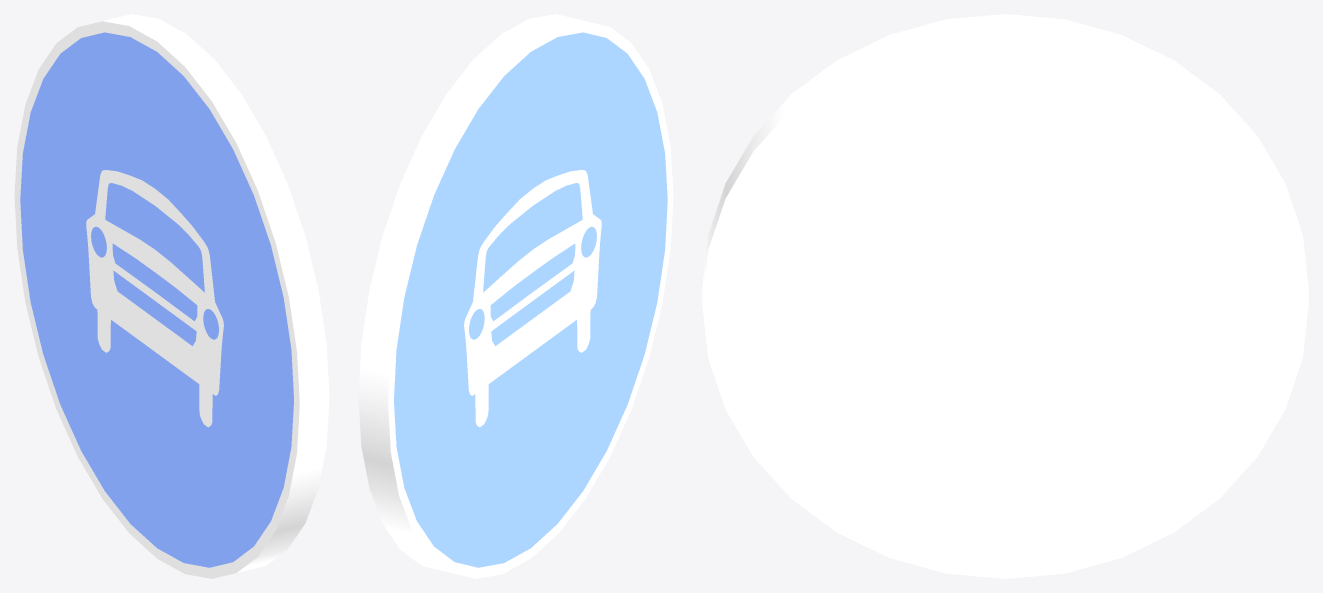
File: MotorVehicle_Driving.glb
3 renders of one model, left to right at view 1: azimuth 30°, elevation 25°; view 2: azimuth 150°, elevation 25°; view 3: azimuth 270°, elevation 25°, orthographic. The views are drawn at different scales.
Parts seen in each view (by area): view 1: MotorVehicle_Driving; view 2: MotorVehicle_Driving; view 3: MotorVehicle_Driving.
Boxes of the visible parts, x1=… form: MotorVehicle_Driving: x1=14, y1=14, x2=329, y2=578; MotorVehicle_Driving: x1=358, y1=14, x2=673, y2=578; MotorVehicle_Driving: x1=702, y1=14, x2=1308, y2=578.
Bounding box in the file's own units: 0.0643 × 1 × 1.
